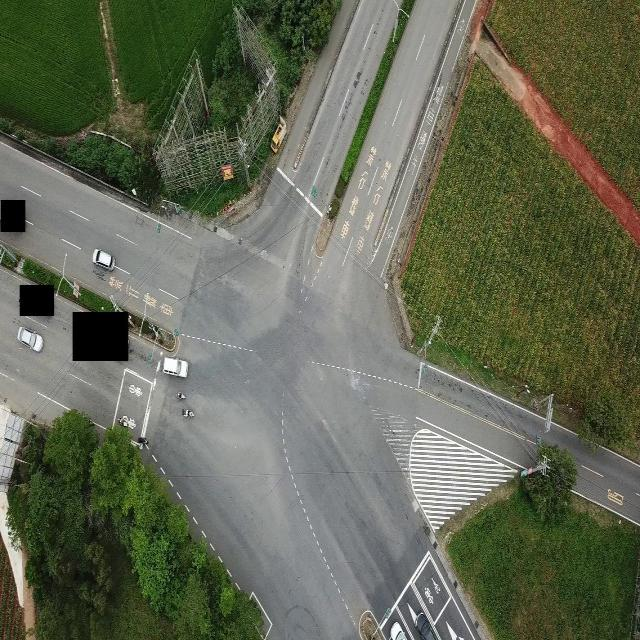bike: (175, 390, 187, 404), (137, 434, 149, 446), (181, 407, 194, 418), (117, 416, 128, 429)
car: (17, 325, 43, 352), (413, 612, 435, 640), (163, 356, 188, 378), (92, 248, 115, 271), (389, 621, 409, 640)
